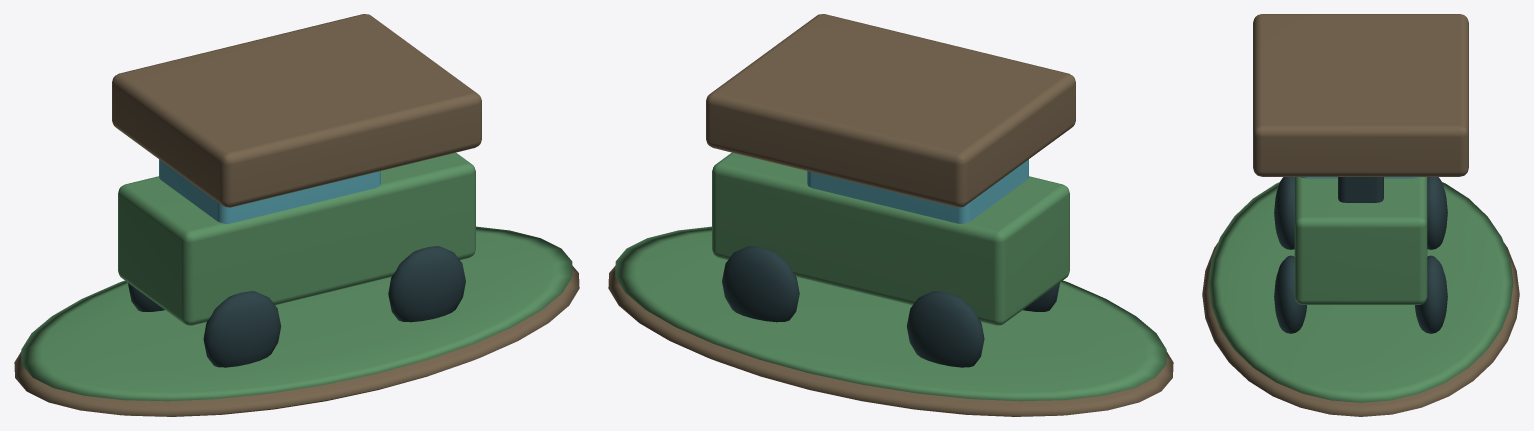
File: underground-train.glb
3 renders of one model, left to right at view 1: azimuth 30°, elevation 25°; view 2: azimuth 150°, elevation 25°; view 3: azimuth 270°, elevation 25°, orthographic. The views are drawn at different scales.
Parts seen in each view (by area): view 1: underground-train_surface_01, underground-train_surface_00, underground-train_surface_03, underground-train_surface_02; view 2: underground-train_surface_01, underground-train_surface_00, underground-train_surface_03, underground-train_surface_02; view 3: underground-train_surface_01, underground-train_surface_00, underground-train_surface_03.
Boxes of the visible parts, x1,y1,x2,y2 form: underground-train_surface_01: (21, 152, 572, 401); underground-train_surface_00: (14, 14, 579, 416); underground-train_surface_03: (128, 246, 465, 367); underground-train_surface_02: (159, 159, 380, 223); underground-train_surface_01: (615, 152, 1166, 401); underground-train_surface_00: (608, 14, 1173, 416); underground-train_surface_03: (722, 246, 1059, 367); underground-train_surface_02: (807, 159, 1028, 223); underground-train_surface_01: (1208, 177, 1513, 402); underground-train_surface_00: (1202, 14, 1519, 416); underground-train_surface_03: (1274, 177, 1447, 333).
Size of the model in its own units: 4.56 by 2.08 by 2.5.
